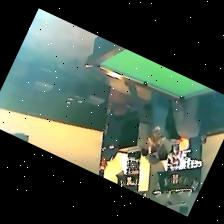person: (100, 105, 130, 169), (172, 96, 200, 150)
